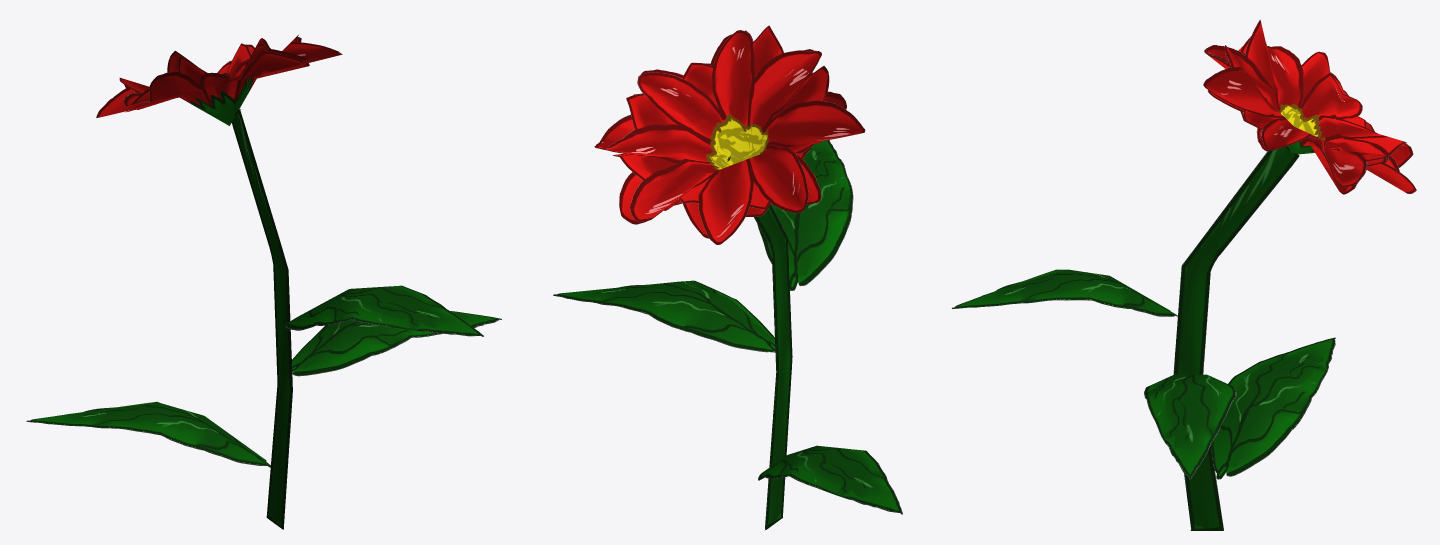
File: Flower01.fbx
The picture shows the model from 3 angles, left to right: view 1: azimuth 30°, elevation 25°; view 2: azimuth 150°, elevation 25°; view 3: azimuth 270°, elevation 25°; orthographic projection. The views are drawn at different scales.
Parts seen in each view (by area): view 1: Flower; view 2: Flower; view 3: Flower.
Boxes of the visible parts, x1=… form: Flower: x1=26, y1=35, x2=501, y2=529; Flower: x1=553, y1=25, x2=902, y2=529; Flower: x1=951, y1=19, x2=1416, y2=530.
Size of the model in its own units: 0.3239 by 0.3538 by 0.3194.
